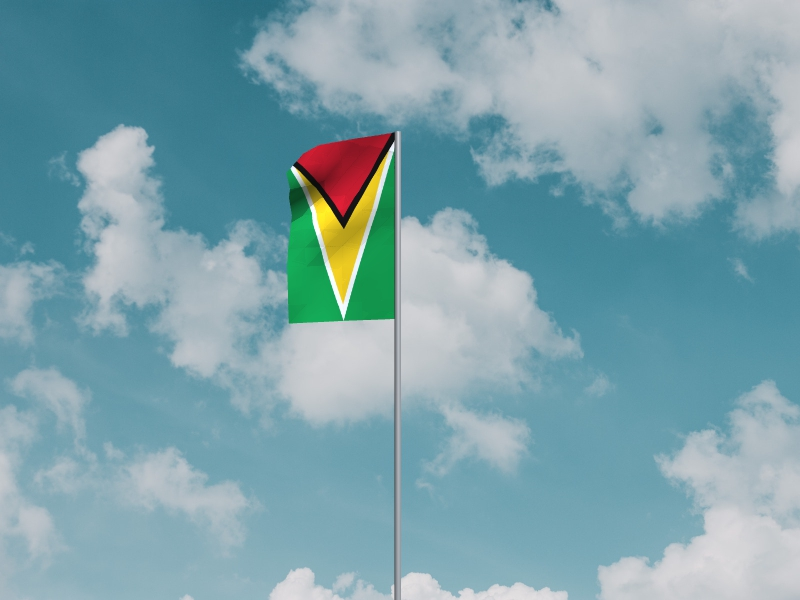gy: (286, 133, 396, 325)
